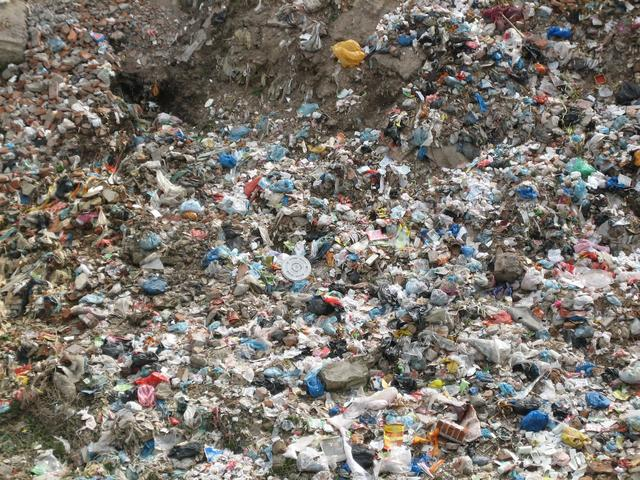garbage: (6, 13, 634, 474)
